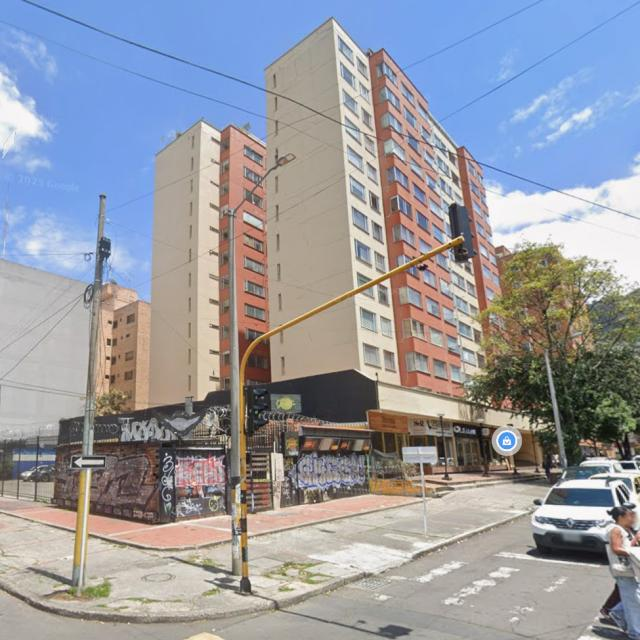fachada: (266, 19, 500, 467), (61, 406, 403, 528), (150, 121, 267, 404), (0, 261, 89, 436), (96, 283, 150, 410)
poste: (240, 236, 464, 387), (83, 195, 105, 454), (227, 209, 242, 575), (545, 349, 566, 470), (440, 416, 450, 480), (478, 420, 489, 477), (421, 461, 427, 535), (532, 430, 539, 473)
